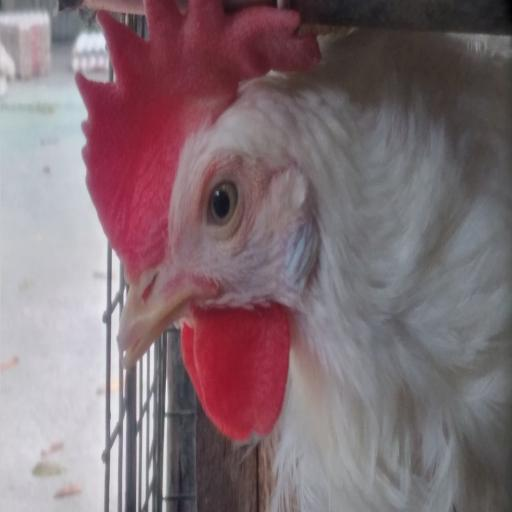healthy: (115, 56, 297, 323)
